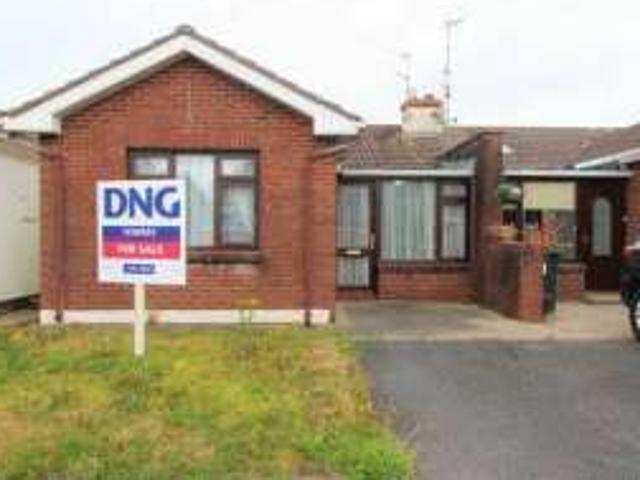property sign: (75, 167, 208, 290)
